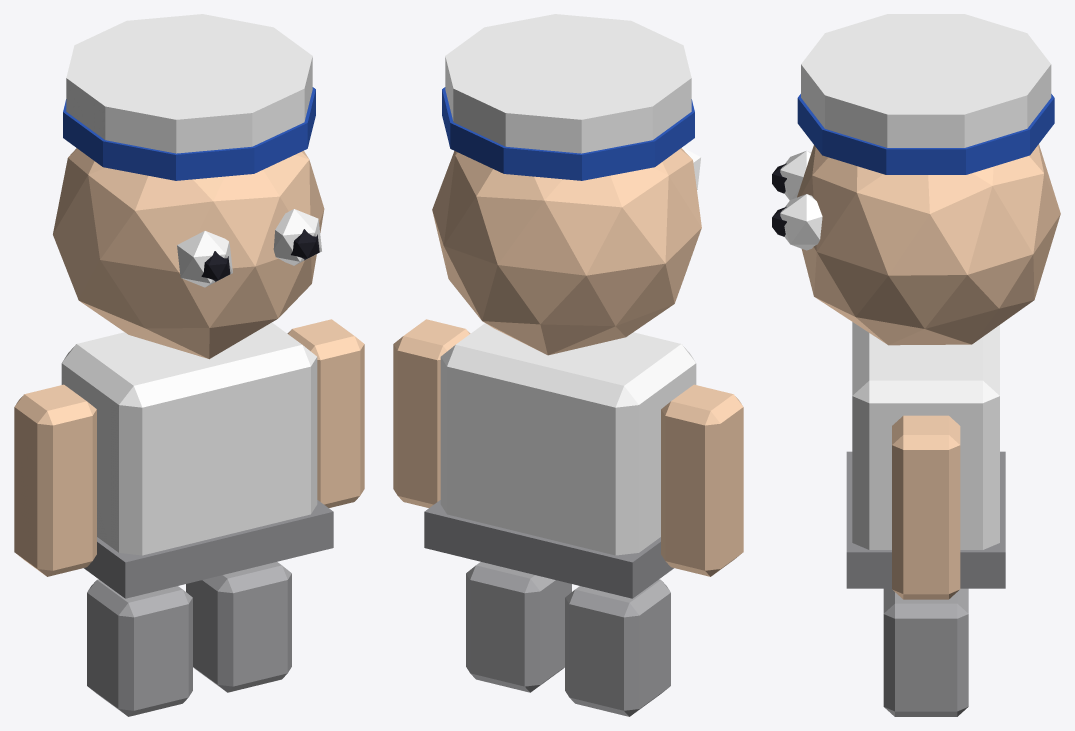
The model's file is MarineElite.fbx.
The picture shows the model from 3 angles, left to right: view 1: azimuth 30°, elevation 25°; view 2: azimuth 150°, elevation 25°; view 3: azimuth 270°, elevation 25°; orthographic projection.
Parts seen in each view (by area): view 1: MarineElite; view 2: MarineElite; view 3: MarineElite.
Part boxes in pixels (x1,y1,x2,y2): MarineElite: (14, 14, 364, 716); MarineElite: (393, 14, 743, 716); MarineElite: (772, 14, 1060, 716).
Bounding box in the file's own units: 3.8 × 6.87 × 2.92.
1 material, 1 textured.
